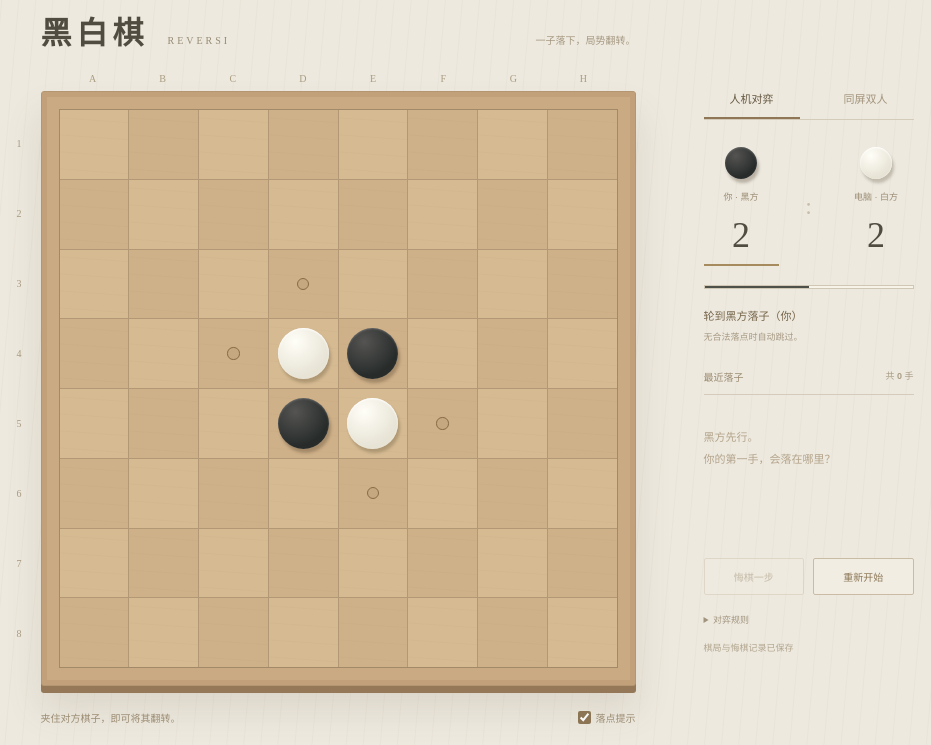
Test: independent game interactions › previews reversi flips and keeps the move journal in sync with undo
Click the button "同屏双人" at (866, 99), box [818, 79, 914, 119]
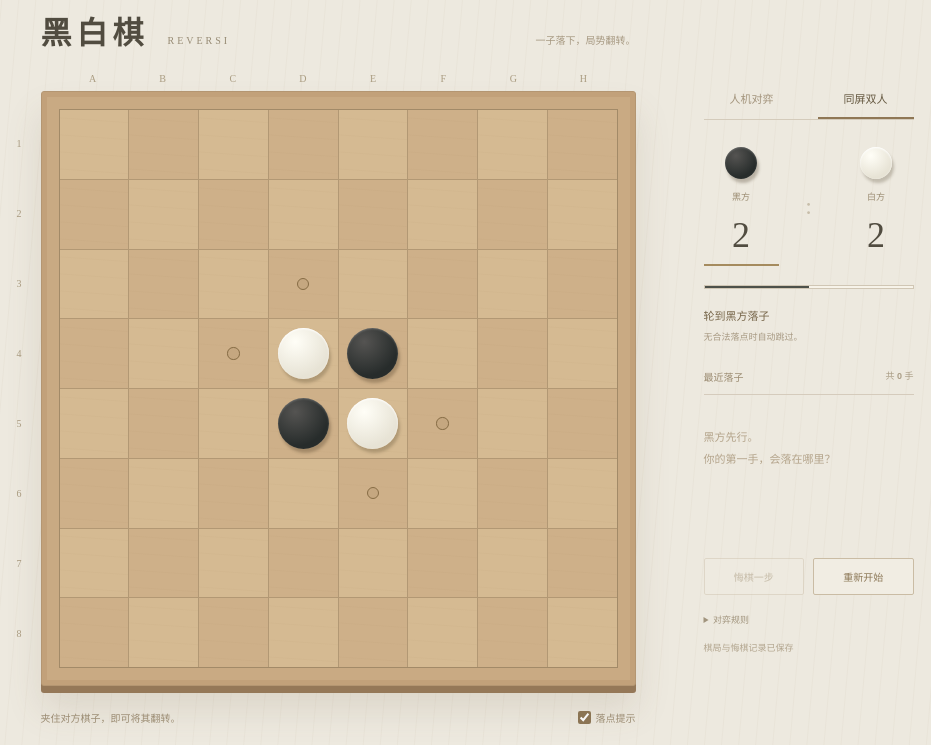
Hover over the button named "D3，可落子" at (303, 284), box [269, 250, 338, 318]
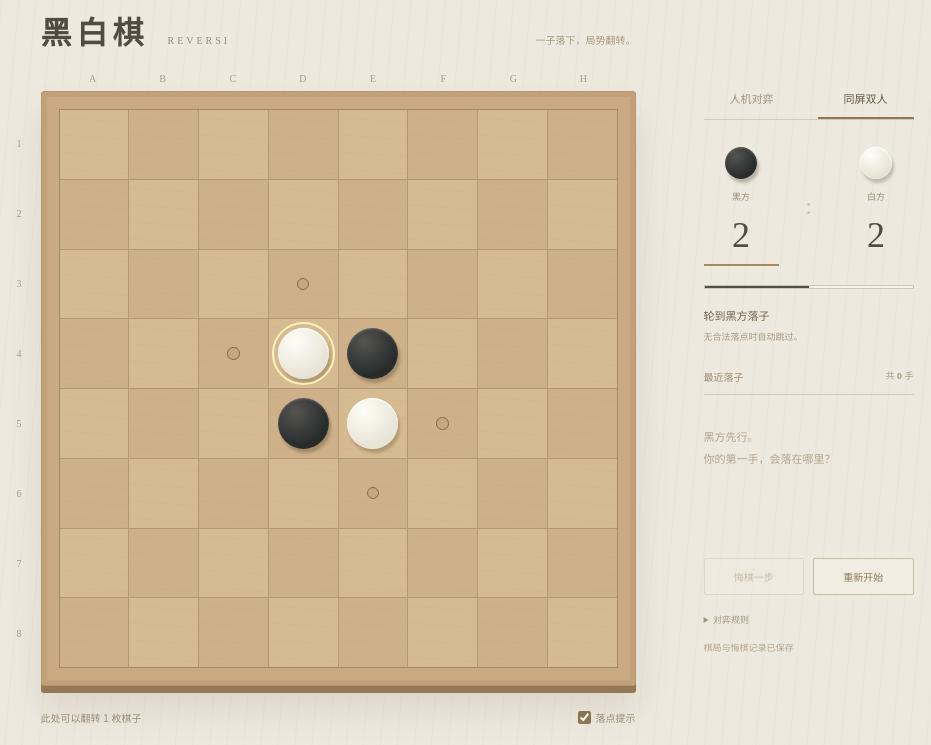
Expected: the text "此处可以翻转 1 枚棋子" is shown, [40, 710, 142, 725]
Click the checkbox labelled "落点提示" at (584, 718), box [578, 711, 590, 724]
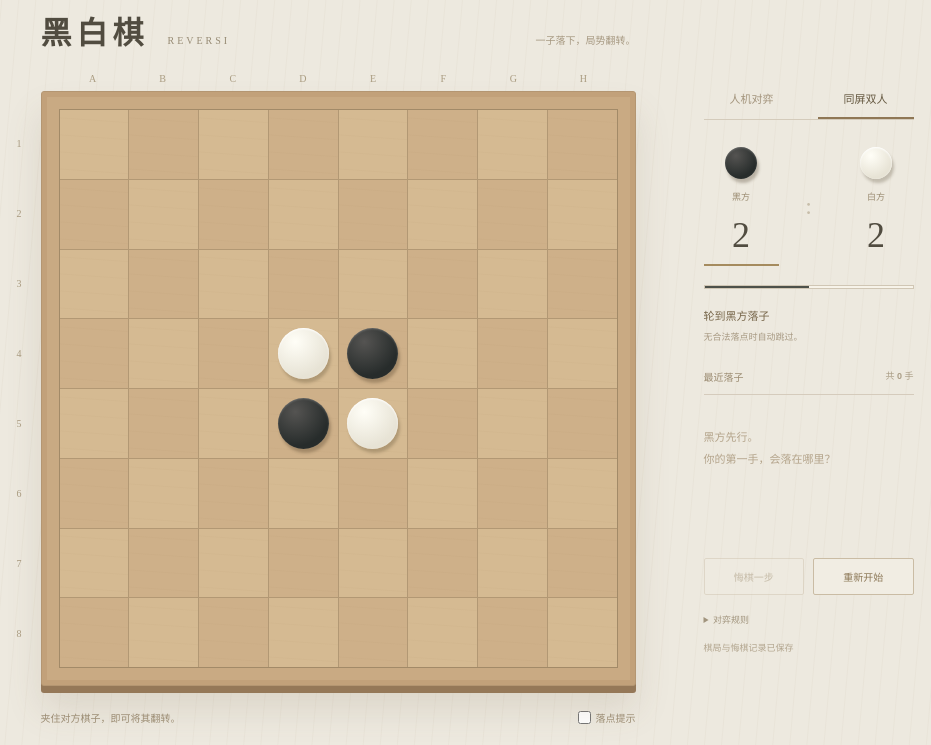
Expected: the button named "D4，白子" has attribute data-preview="false", [269, 319, 338, 388]
Click the button named "D3，可落子" at (303, 284), box [269, 250, 338, 318]
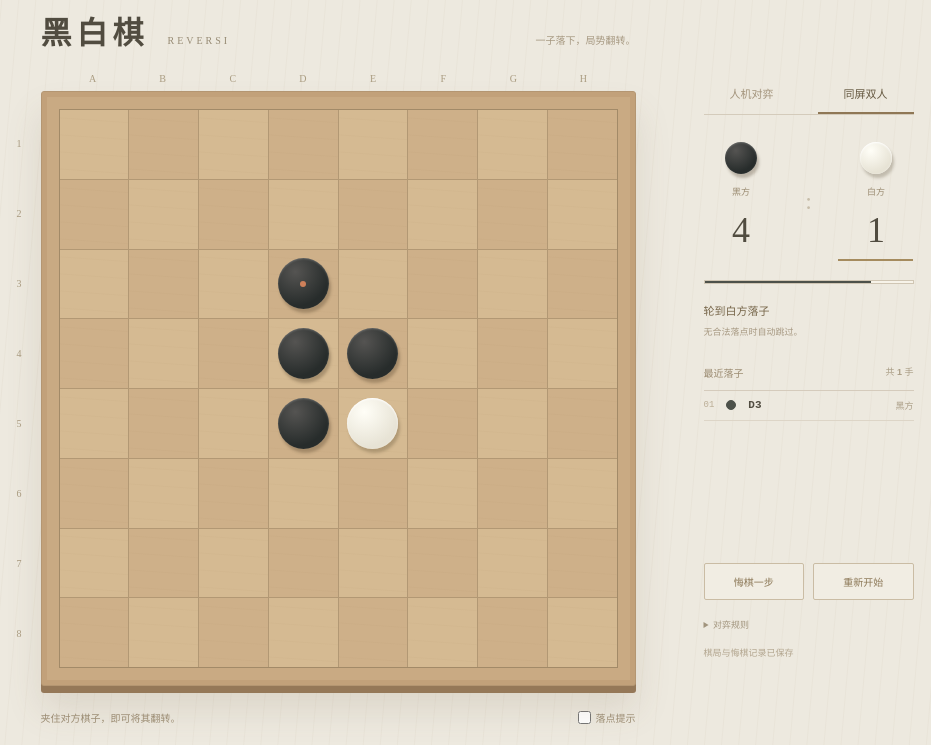
Expected: the list shows "D3", [704, 391, 914, 421]
Expected: the text named "已落子" reads "1", [897, 367, 902, 377]
Click the button "悔棋一步" at (754, 581), box [704, 563, 804, 600]
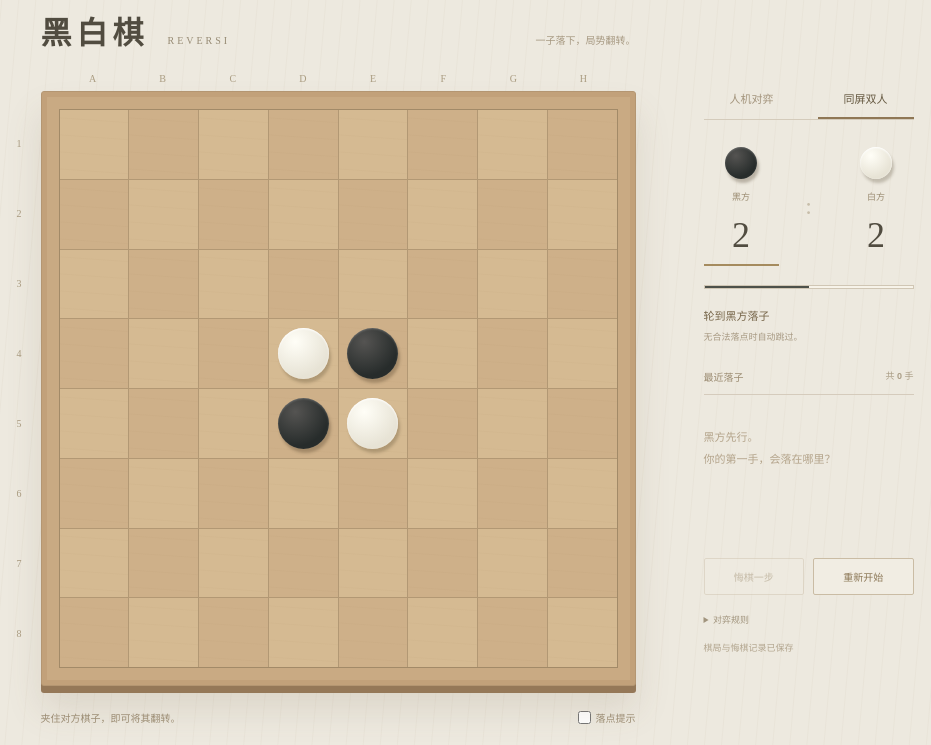
Expected: the list is gone
Expected: the text named "已落子" reads "0", [897, 371, 902, 381]
